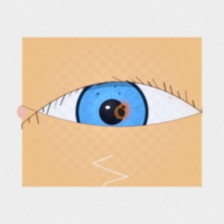foreign_body_visible: (98, 94, 144, 131)
